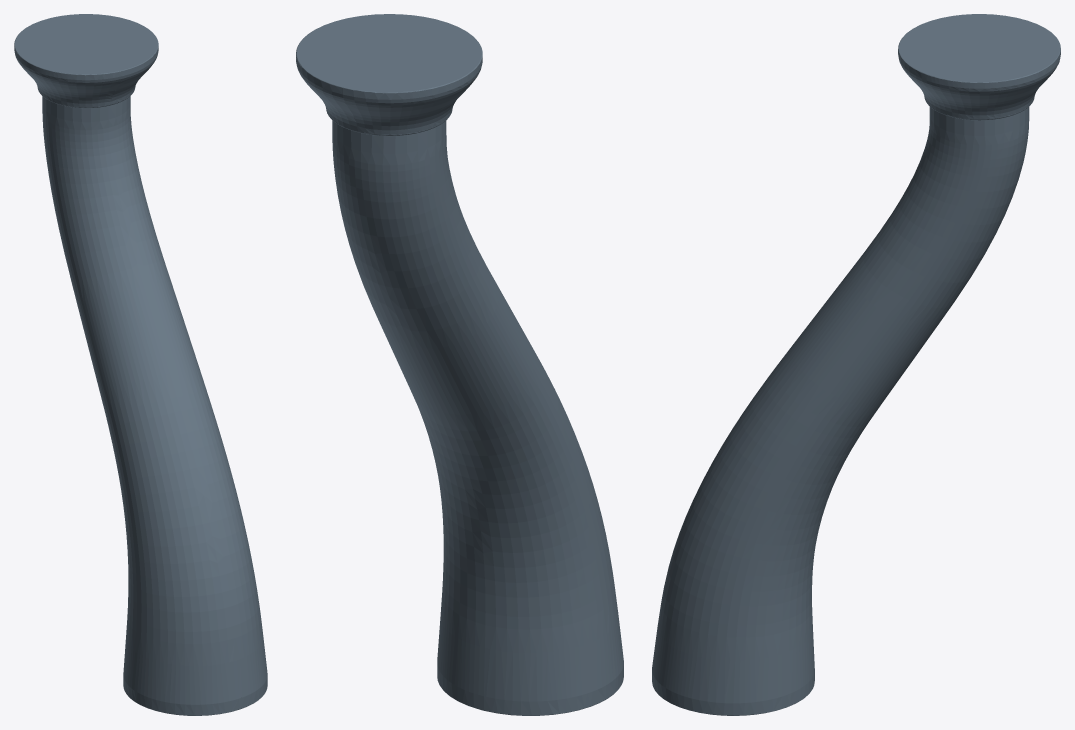
3 renders of one model, left to right at view 1: azimuth 30°, elevation 25°; view 2: azimuth 150°, elevation 25°; view 3: azimuth 270°, elevation 25°, orthographic. The views are drawn at different scales.
Visible parts, largest first — view 1: H2017_4_0; view 2: H2017_4_0; view 3: H2017_4_0.
Boxes of the visible parts, x1,y1,x2,y2 form: H2017_4_0: (14, 14, 267, 715); H2017_4_0: (296, 14, 623, 715); H2017_4_0: (652, 14, 1060, 715).
Bounding box in the file's own units: 131 × 329 × 563.
